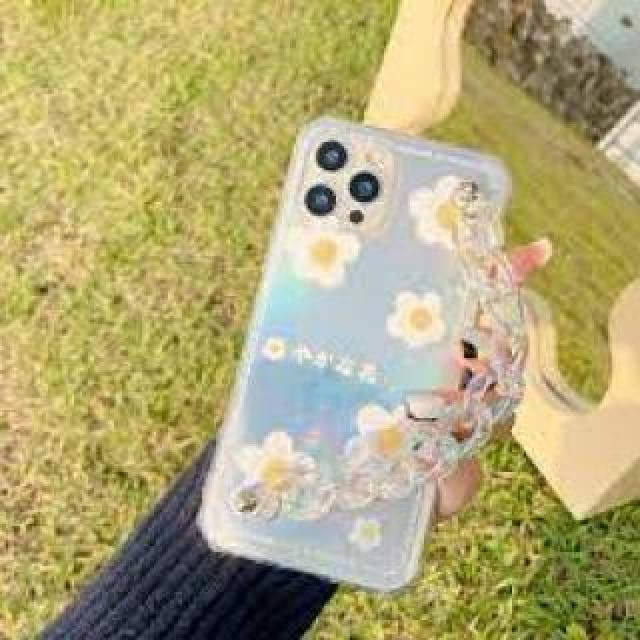smart phone: (185, 76, 493, 612)
